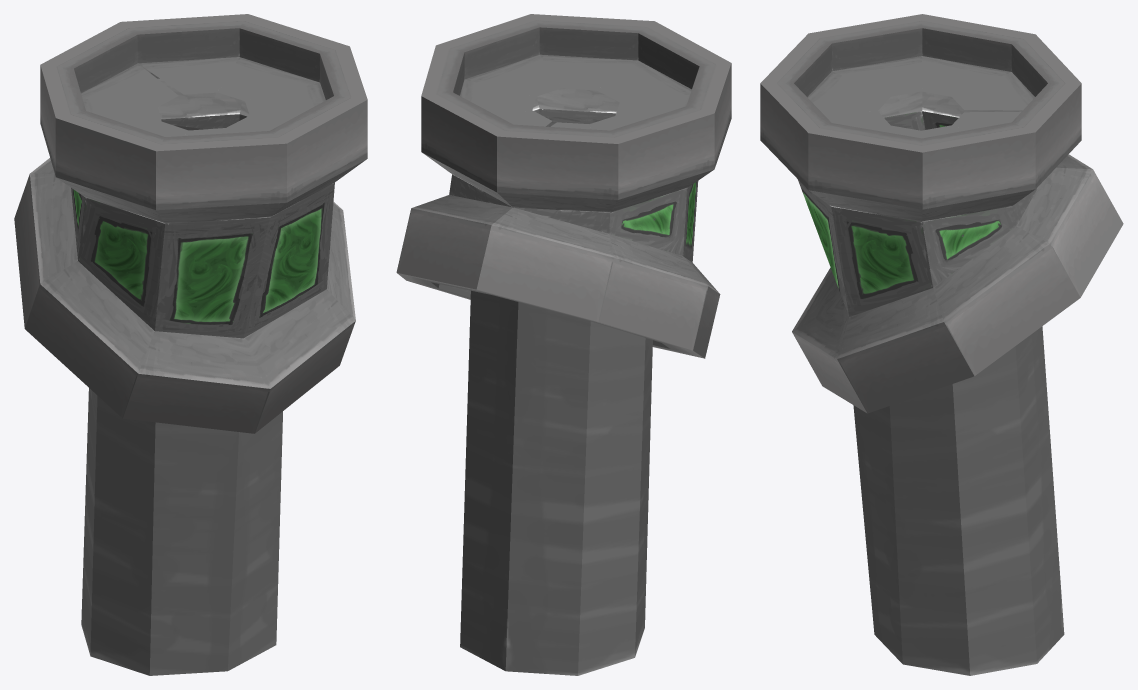
Rendered from baseFBX.fbx.
The picture shows the model from 3 angles, left to right: view 1: azimuth 30°, elevation 25°; view 2: azimuth 150°, elevation 25°; view 3: azimuth 270°, elevation 25°; orthographic projection. The views are drawn at different scales.
Parts seen in each view (by area): view 1: baseLowPoly2; view 2: baseLowPoly2; view 3: baseLowPoly2.
Part boxes in pixels (x1=…): baseLowPoly2: x1=14, y1=14, x2=367, y2=675; baseLowPoly2: x1=396, y1=14, x2=731, y2=675; baseLowPoly2: x1=760, y1=14, x2=1123, y2=675.
Size of the model in its own units: 1.23 by 2.21 by 1.32.
